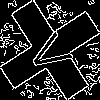V: (25, 25, 82, 77)
